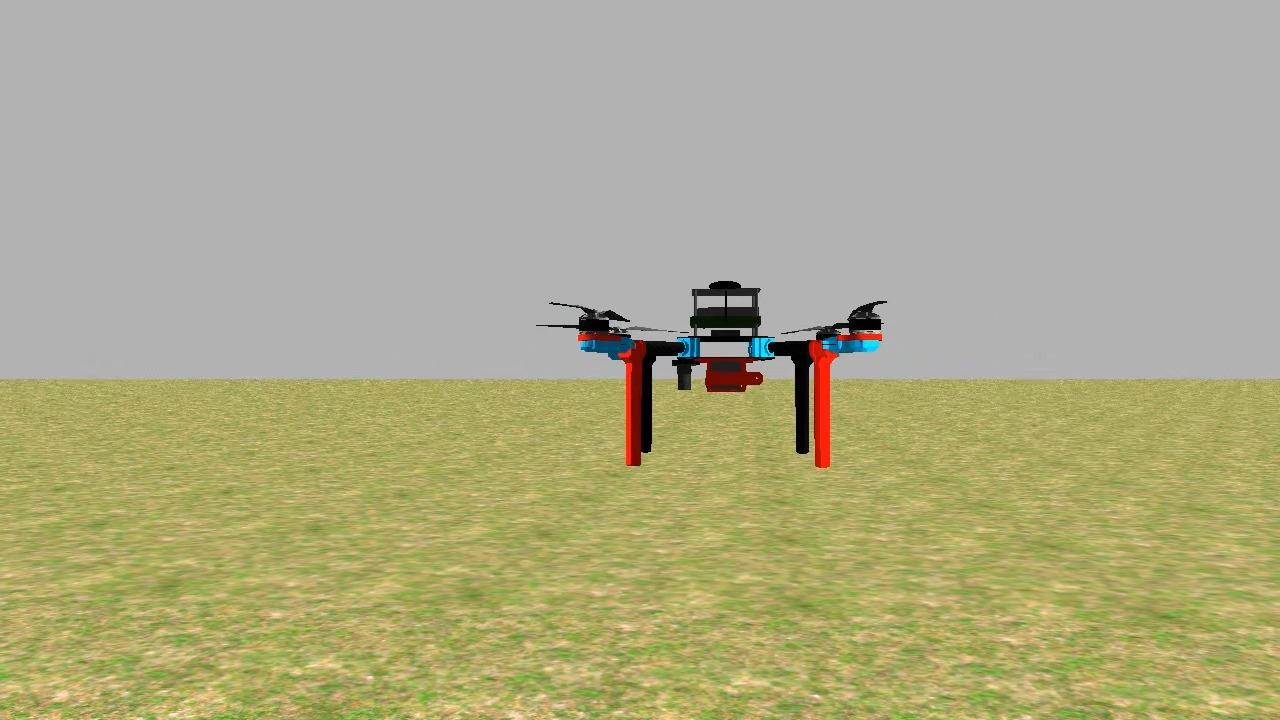UAV: (550, 268, 904, 482)
